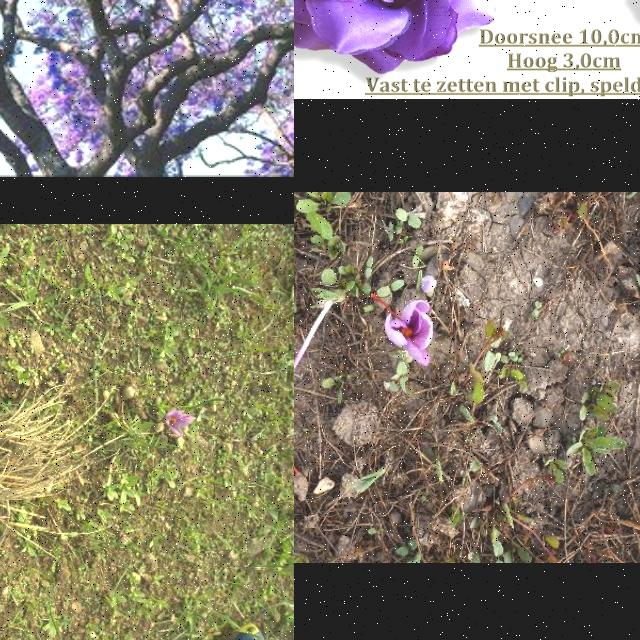flower: (371, 293, 433, 367), (164, 408, 196, 438)
